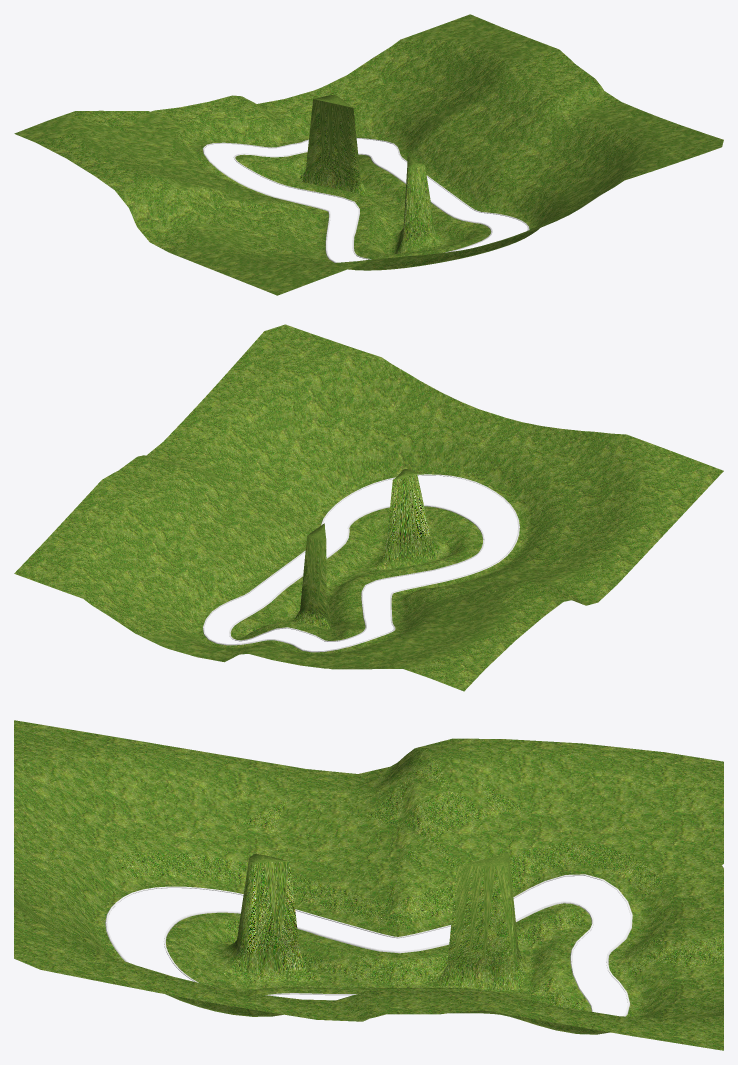
File: Track_02_Tile_01_scenery.fbx
3 renders of one model, top to bottom at view 1: azimuth 30°, elevation 25°; view 2: azimuth 150°, elevation 25°; view 3: azimuth 270°, elevation 25°, orthographic. The views are drawn at different scales.
Parts seen in each view (by area): view 1: Tiles_02:Layer4; view 2: Tiles_02:Layer4; view 3: Tiles_02:Layer4.
Boxes of the visible parts, x1,y1,x2,y2 form: Tiles_02:Layer4: [14, 14, 723, 295]; Tiles_02:Layer4: [14, 324, 723, 691]; Tiles_02:Layer4: [14, 720, 723, 1050].
Bounding box in the file's own units: 200 × 53.19 × 200.
